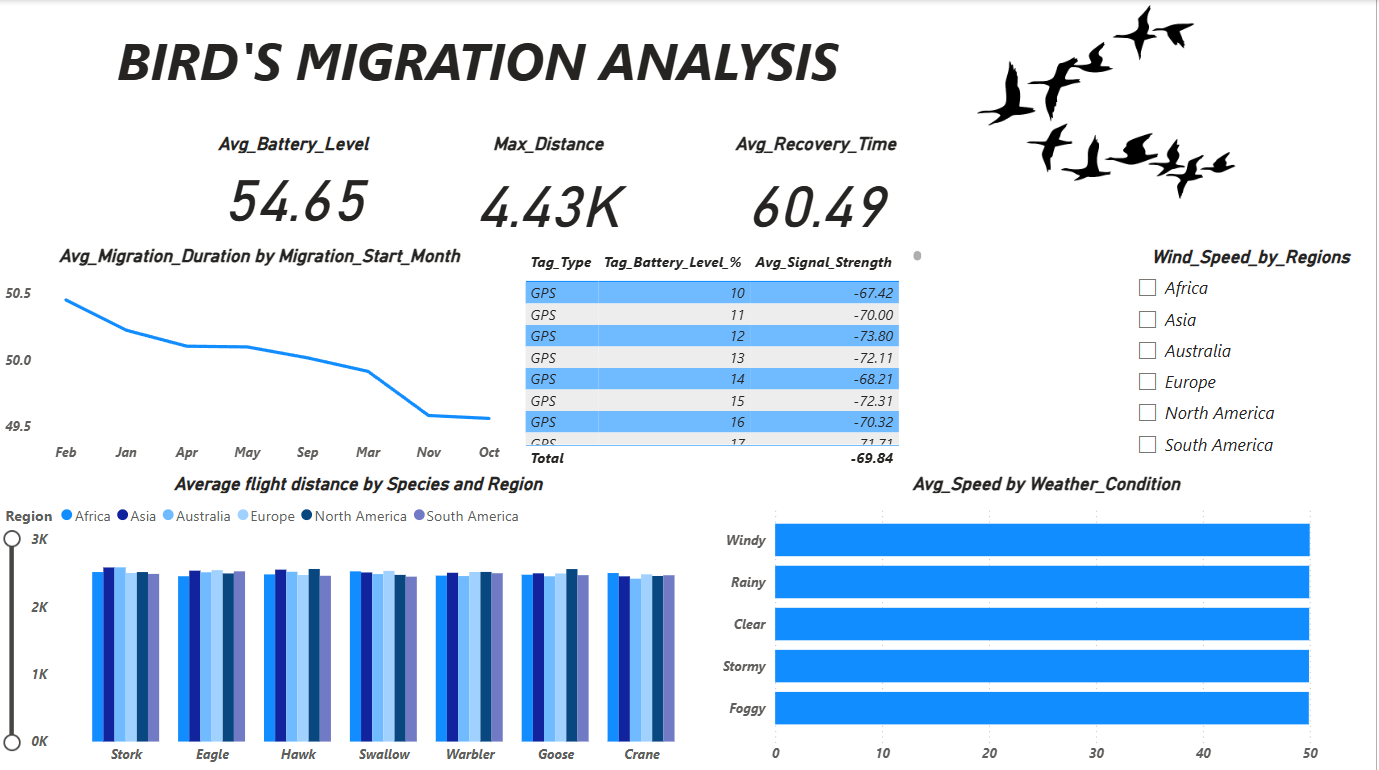

What the dashboard file says about the page in this screenshot:
{"tool":"powerbi","page":{"name":"Page 1","canvas":[1280,720],"ordinal":0},"visuals":[{"type":"clusteredColumnChart","title":"Average flight distance by Species and Region","fields":{"Category":["BIRD_MIGRATION_DATASET.Species"],"Y":["BIRD_MIGRATION_DATASET.Measure"],"Series":["BIRD_MIGRATION_DATASET.Region"]},"box":[0,439.5,666.3,280.2],"z":0},{"type":"clusteredBarChart","fields":{"Y":["BIRD_MIGRATION_DATASET.Avg_Speed"],"Category":["BIRD_MIGRATION_DATASET.Weather_Condition"]},"box":[666.3,439.5,614,280.2],"z":1000},{"type":"lineChart","fields":{"Category":["BIRD_MIGRATION_DATASET.Migration_Start_Month"],"Y":["BIRD_MIGRATION_DATASET.Avg_Migration_Duration"]},"box":[0,227.9,482.6,211.6],"z":2000},{"type":"pivotTable","fields":{"Columns":["BIRD_MIGRATION_DATASET.Tag_Type"],"Values":["BIRD_MIGRATION_DATASET.Avg_Signal_Strength"],"Rows":["BIRD_MIGRATION_DATASET.Tag_Battery_Level_%"]},"box":[482.6,227.9,380.2,211.6],"z":3000},{"type":"card","title":"Avg_Battery_Level","fields":{"Values":["BIRD_MIGRATION_DATASET.Avg_Battery_Level"]},"box":[154.7,123.3,236,94.2],"z":4000},{"type":"card","title":"Max_Distance","fields":{"Values":["BIRD_MIGRATION_DATASET.Max_Distance"]},"box":[390.7,123.3,238.4,104.7],"z":5000},{"type":"card","title":"Avg_Recovery_Time","fields":{"Values":["BIRD_MIGRATION_DATASET.Avg_Recovery_Time"]},"box":[639.5,123.3,238.4,104.7],"z":6000},{"type":"slicer","title":"Wind_Speed_by_Regions","fields":{"Values":["BIRD_MIGRATION_DATASET.Region"]},"box":[1046.5,203.5,233.7,219.8],"z":7000},{"type":"textbox","box":[74.4,0,739.5,100],"z":8000},{"type":"image","box":[877.9,0,302.3,189.5],"z":9000}]}

Visuals, with their boxes in screenshot pixels (x1, y1, x2, y2), scaled from the page's 1280x720 canvas onto the 1379x770 screenshot:
"Average flight distance by Species and Region" clusteredColumnChart: detection(0, 470, 718, 769)
clusteredBarChart - BIRD_MIGRATION_DATASET.Avg_Speed x BIRD_MIGRATION_DATASET.Weather_Condition: detection(718, 470, 1378, 769)
lineChart - BIRD_MIGRATION_DATASET.Migration_Start_Month x BIRD_MIGRATION_DATASET.Avg_Migration_Duration: detection(0, 244, 520, 470)
pivotTable - BIRD_MIGRATION_DATASET.Tag_Type x BIRD_MIGRATION_DATASET.Avg_Signal_Strength: detection(520, 244, 930, 470)
"Avg_Battery_Level" card: detection(167, 132, 421, 233)
"Max_Distance" card: detection(421, 132, 678, 244)
"Avg_Recovery_Time" card: detection(689, 132, 946, 244)
"Wind_Speed_by_Regions" slicer: detection(1127, 218, 1378, 453)
textbox: detection(80, 0, 877, 107)
image: detection(946, 0, 1271, 203)
